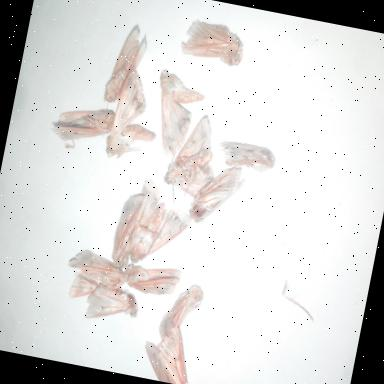abw: (97, 63, 173, 172), (122, 176, 198, 276), (158, 110, 232, 206), (142, 64, 213, 162), (106, 176, 164, 274), (58, 244, 132, 316), (185, 155, 252, 234), (174, 9, 254, 74), (99, 21, 152, 114), (46, 94, 119, 161), (135, 316, 203, 384), (78, 276, 144, 336), (154, 276, 208, 348), (118, 252, 186, 308), (214, 128, 282, 178)
